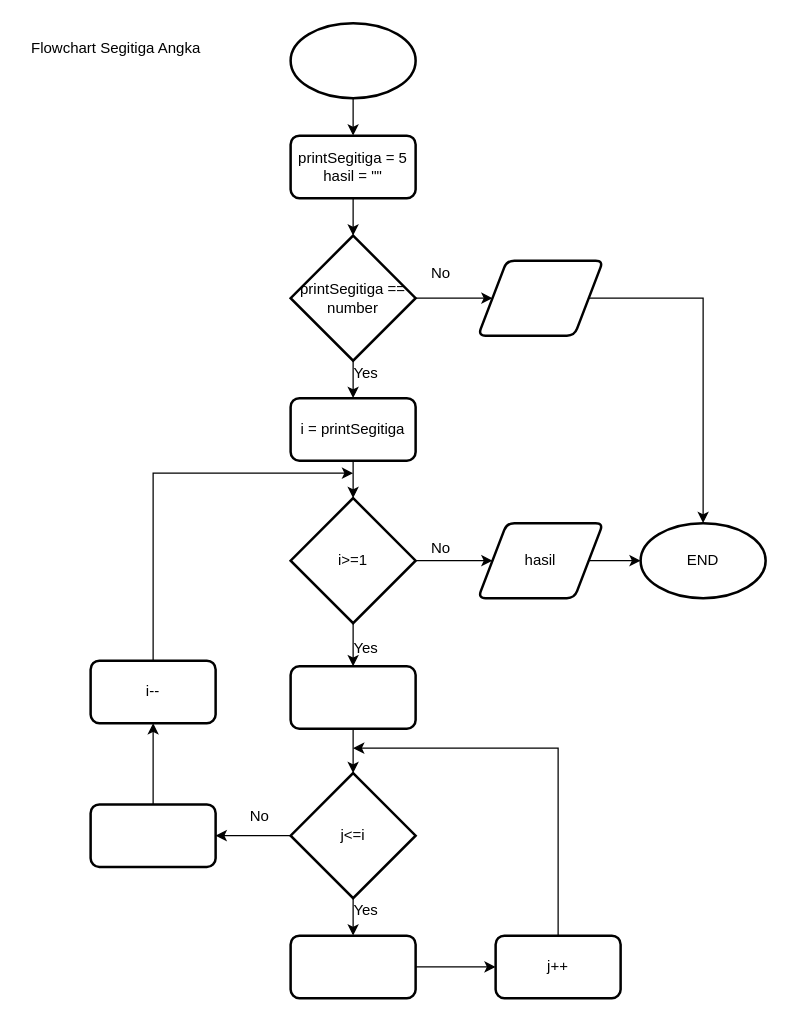
This 788x1020 diagram has some shape labels left out. The shapes that lost their labels are listed below. From the top down, each one's centre as x and y in pixels, then its label:
the point at 352,60: START
the point at 540,297: "Data Harus Number"
the point at 352,696: j = 1
the point at 152,835: hasil+='\n'
the point at 352,966: hasil = hasil+j+ " "
